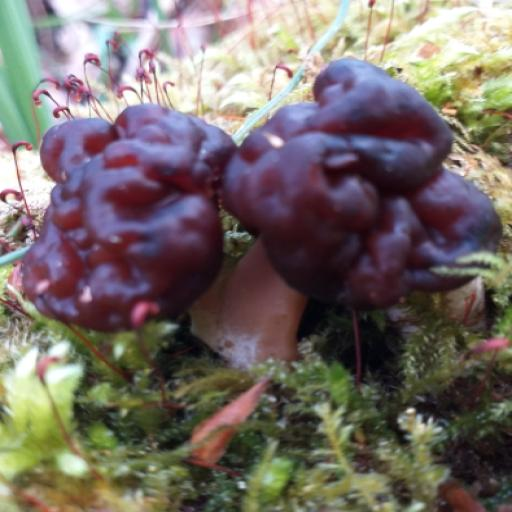False Morel: (0, 31, 512, 410)
